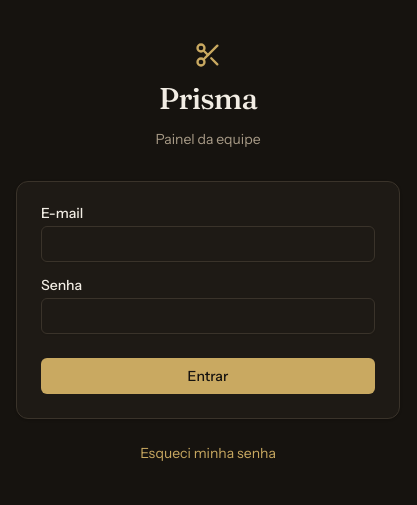
LoginPage › ACCOUNT_LOCKED mostra o detail do erro no banner
Type "joao@barbearia.com" into the field labelled "E-mail".
click(208, 244); type("joao@barbearia.com")  # box [41,226,375,262]
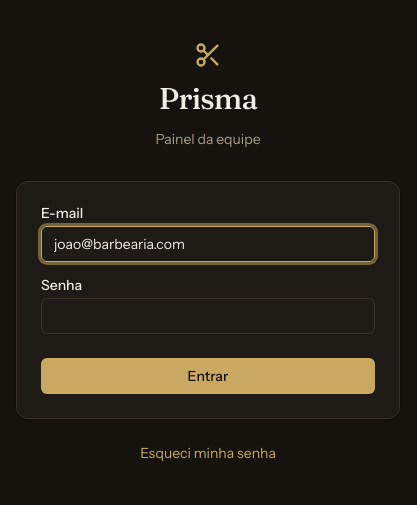
Type "segredo123" into the password field labelled "Senha".
click(208, 316); type("segredo123")  # box [41,298,375,334]
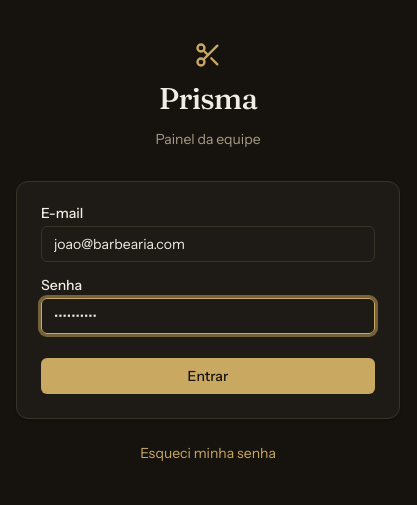
Click the button "Entrar".
click(208, 376)  # box [41,358,375,394]
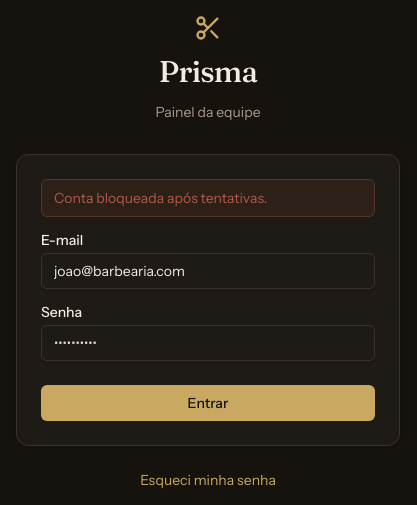
Expected: the text "Conta bloqueada após tentativas." is shown, [41,179,375,217]
